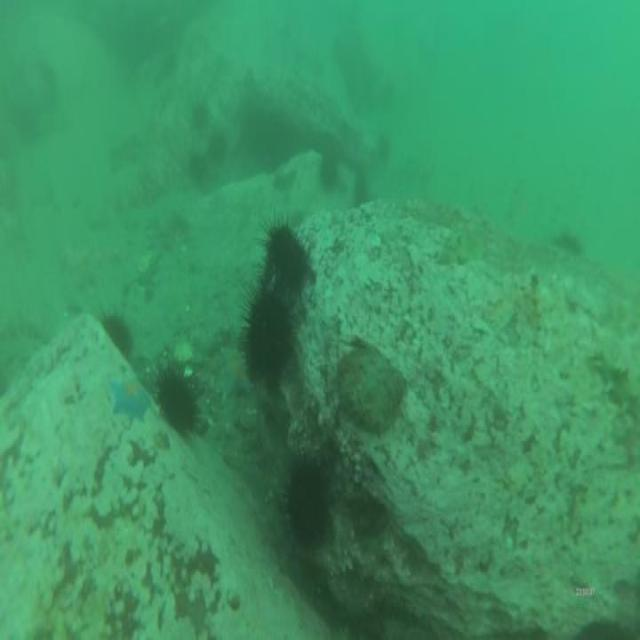echinus: (236, 278, 302, 384), (252, 207, 314, 294), (282, 448, 330, 554), (151, 357, 205, 438), (96, 302, 136, 360), (546, 223, 586, 261), (316, 144, 342, 194), (206, 124, 230, 168), (186, 144, 210, 186), (188, 95, 212, 136), (374, 126, 393, 164), (352, 172, 371, 210)
holothurian: (587, 335, 640, 433), (435, 207, 493, 270), (268, 158, 300, 194)
starfish: (107, 373, 152, 425), (219, 344, 253, 404)
